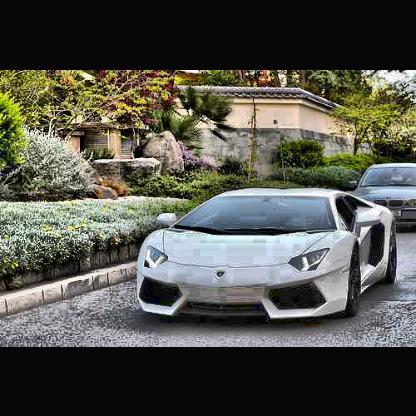Lamborghini Aventador Coupe 2012: (136, 189, 398, 325)
